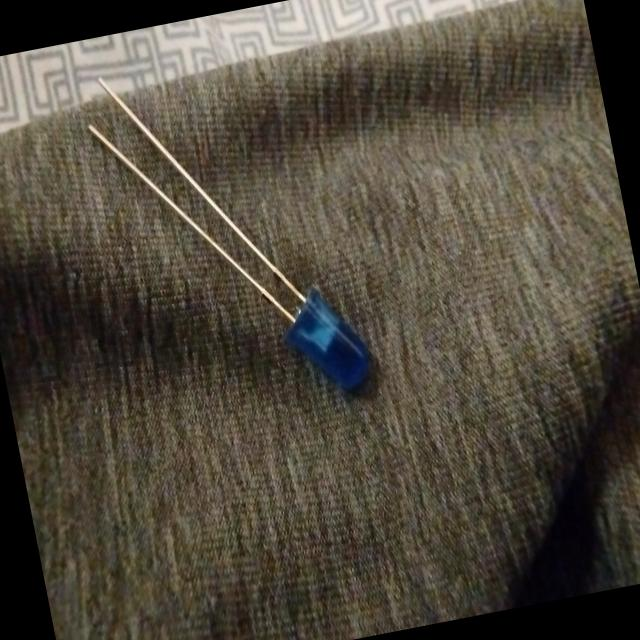blue_led: (274, 278, 378, 402)
